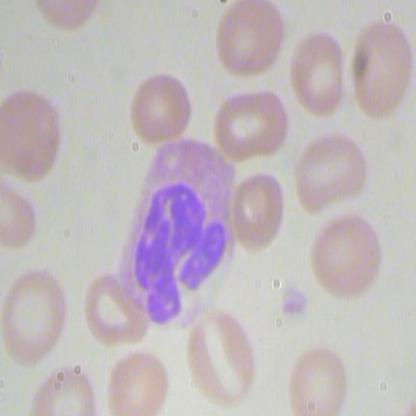RBC: (303, 204, 384, 309), (1, 88, 80, 184), (346, 17, 415, 126), (210, 80, 292, 166), (187, 305, 256, 407), (1, 264, 69, 367), (292, 130, 374, 215), (214, 169, 296, 254), (208, 1, 290, 85), (75, 266, 156, 351), (288, 28, 352, 121), (128, 62, 193, 141), (100, 351, 179, 415), (288, 338, 353, 415)
WBC: (99, 138, 245, 334)
